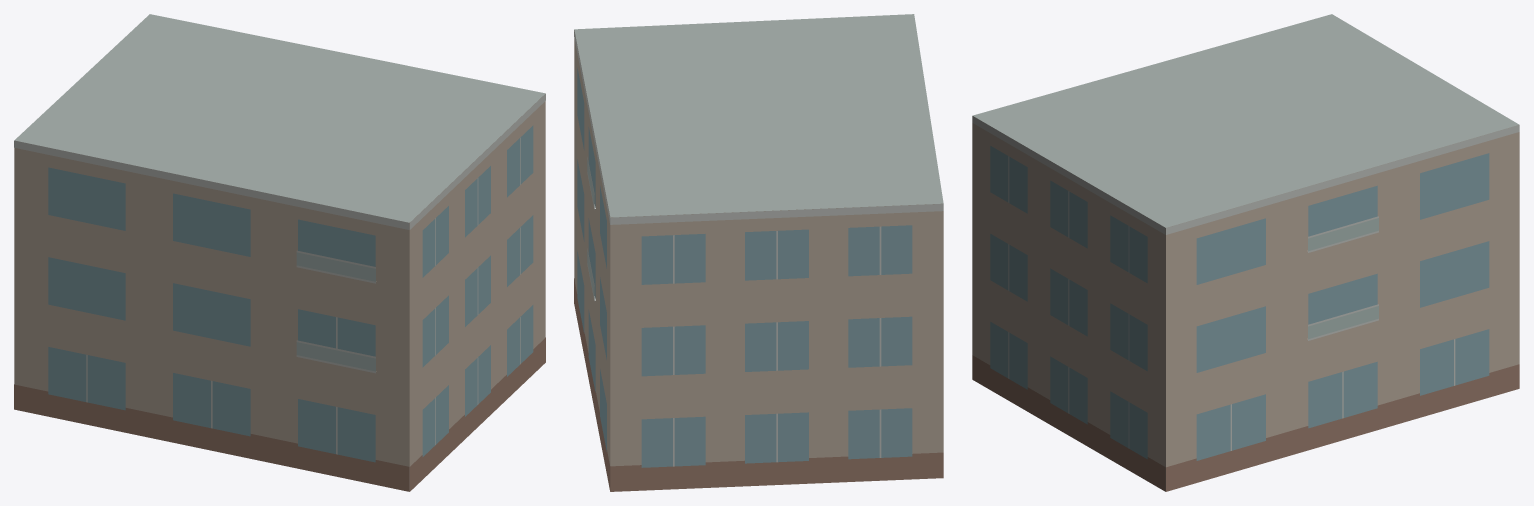
Rendered from survey-upis-32764017.glb.
The picture shows the model from 3 angles, left to right: view 1: azimuth 30°, elevation 25°; view 2: azimuth 150°, elevation 25°; view 3: azimuth 270°, elevation 25°; orthographic projection. The views are drawn at different scales.
Visible parts, largest first — view 1: survey-upis-32764017.tmp; view 2: survey-upis-32764017.tmp; view 3: survey-upis-32764017.tmp.
Boxes of the visible parts, x1,y1,x2,y2 form: survey-upis-32764017.tmp: (14,14,545,491); survey-upis-32764017.tmp: (574,14,943,491); survey-upis-32764017.tmp: (972,14,1519,491).
Bounding box in the file's own units: 15.65 × 9 × 16.92.
